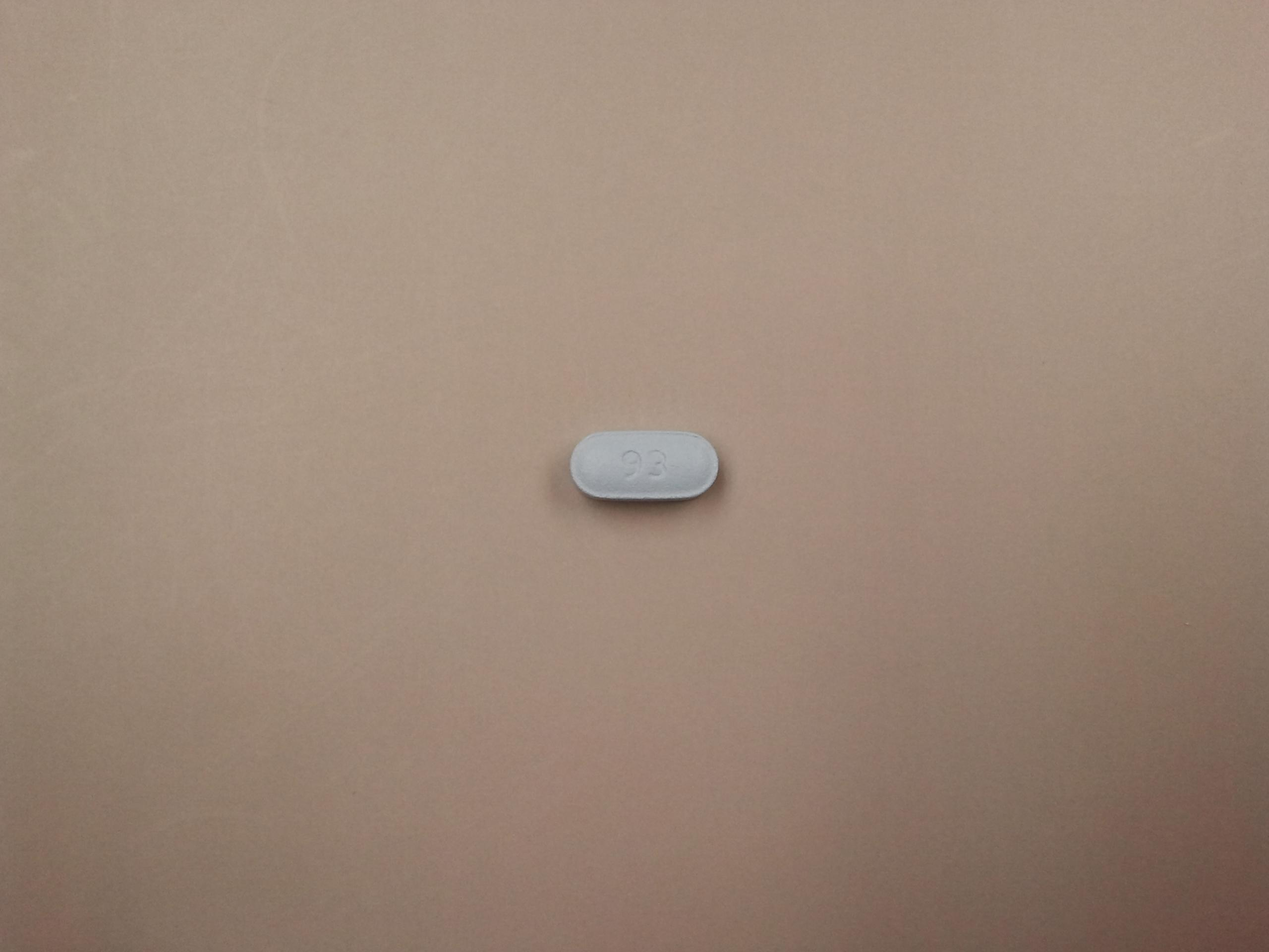Pill: (575, 409, 720, 556)
